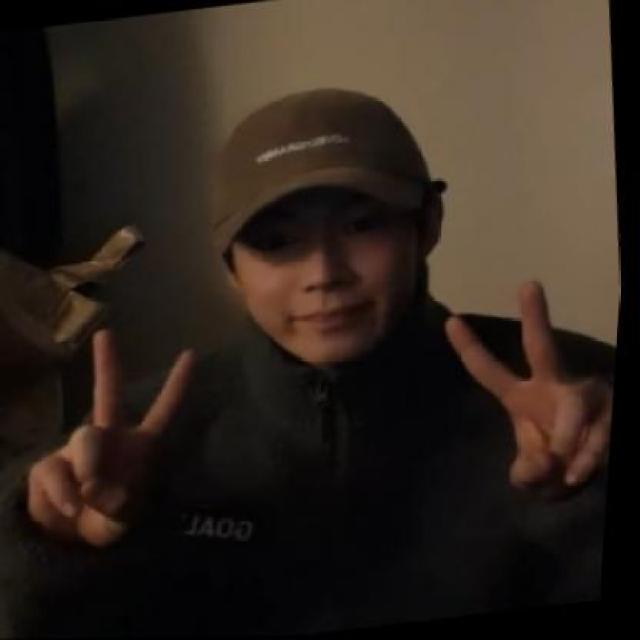hat: (196, 71, 453, 262)
